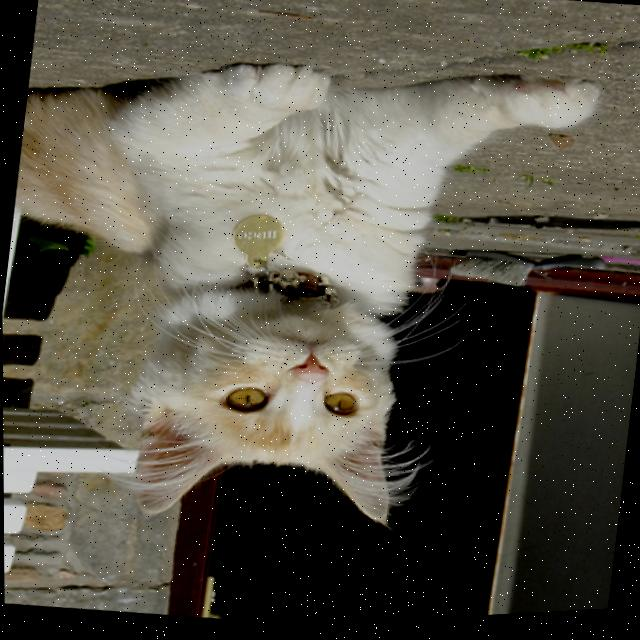Maine Coon: (0, 11, 611, 578)
